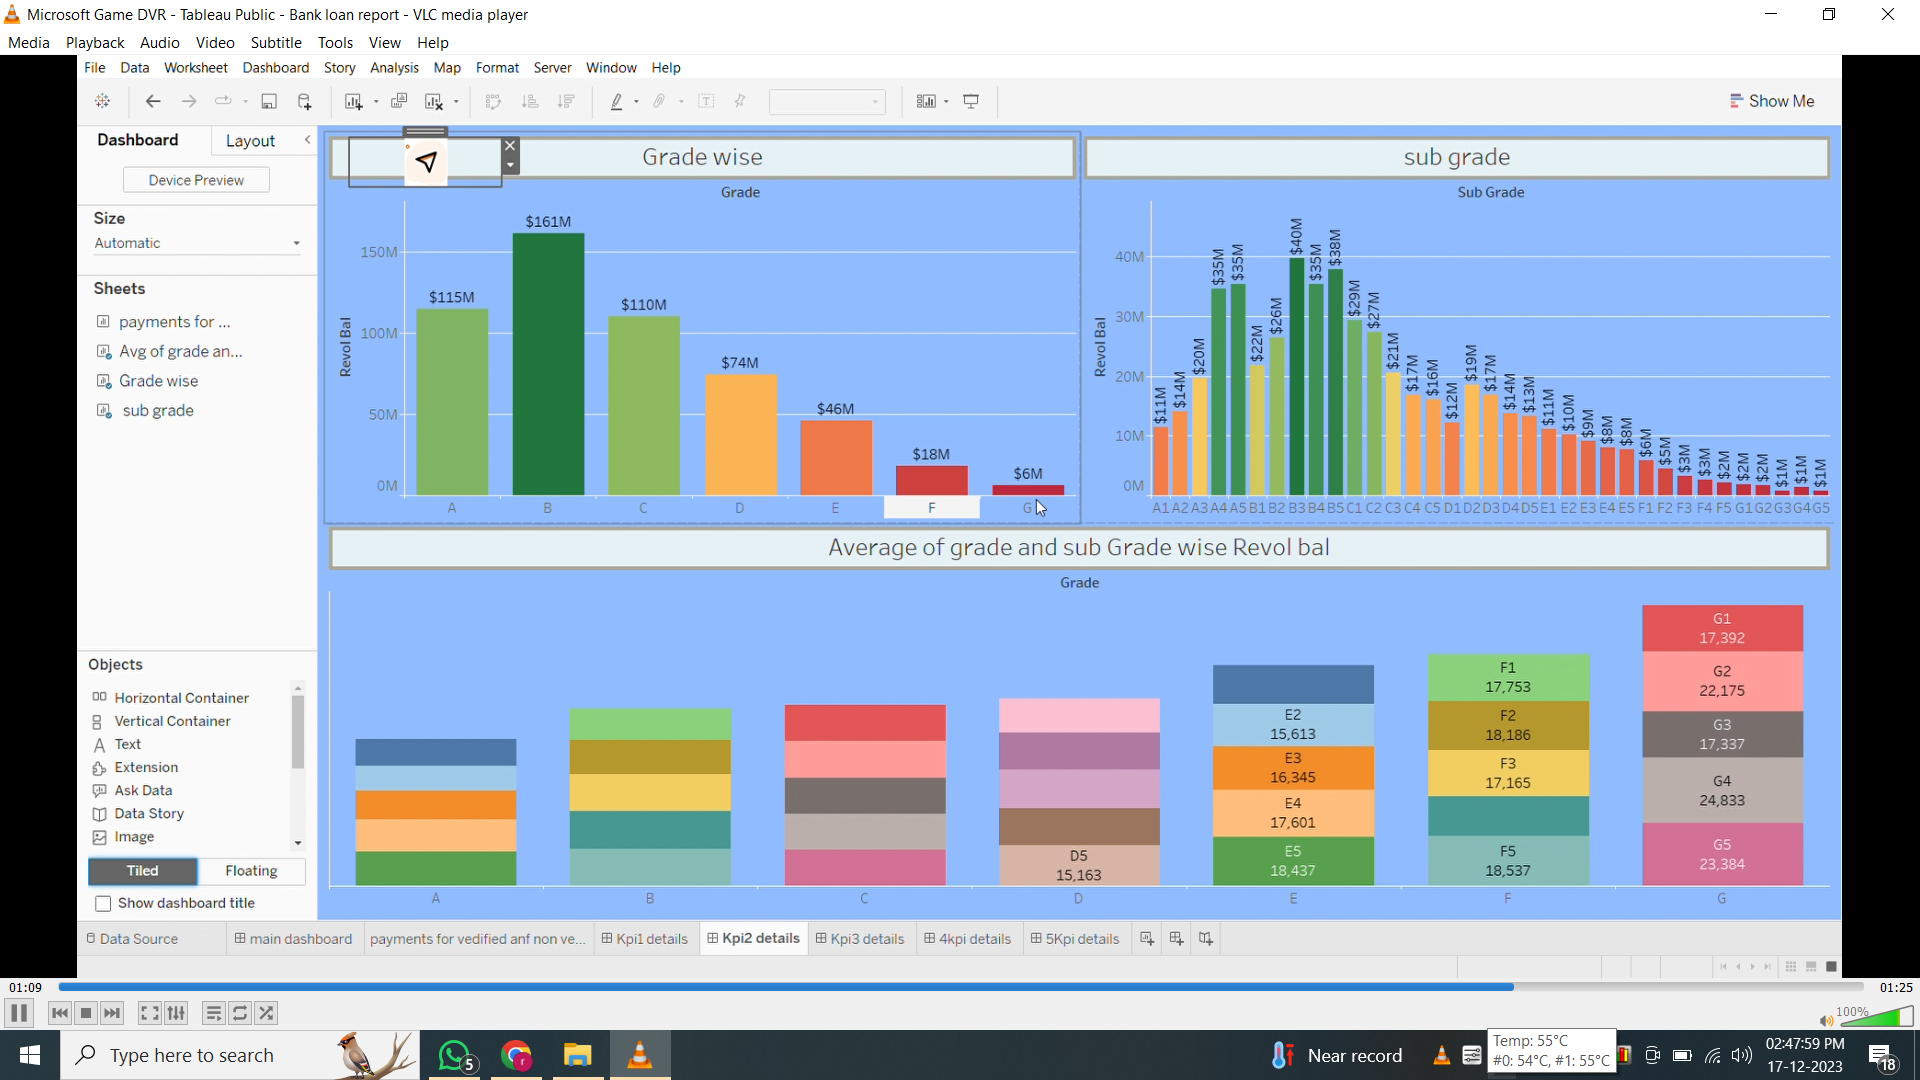

Layout of this report page (visuals, bound fields, positions):
{"tool":"tableau","page":{"name":"Kpi2 details","canvas":[1000,1000],"units":"permille","ordinal":3},"visuals":[{"type":"worksheet","title":"Grade wise","mark":"Automatic","rows":["revol_bal"],"cols":["grade"],"box":[4.8,9.3,495.2,490.7]},{"type":"worksheet","title":" sub grade ","mark":"Automatic","rows":["revol_bal"],"cols":["sub_grade"],"box":[500,9.3,495.2,490.7]},{"type":"dashboard-object","box":[21.1,16.3,99,60.4]},{"type":"worksheet","title":"Avg of grade and sub garde","mark":"Automatic","rows":["revol_bal"],"cols":["grade"],"box":[4.8,500,990.3,490.7]}]}

Visuals, with their boxes on the dashboard's canvas, which has no fixed pixel size, in thousandths of its width and height (x1, y1, x2, y2). These are canvas units, not pixel positions in the 1920x1080 screenshot, which may show the page scaled, cropped or inside an application window:
"Grade wise" worksheet: 5:9:500:500
" sub grade " worksheet: 500:9:995:500
dashboard-object: 21:16:120:77
"Avg of grade and sub garde" worksheet: 5:500:995:991
